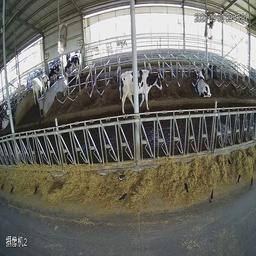cow: (137, 59, 174, 109), (192, 63, 213, 104), (30, 68, 51, 107), (64, 49, 84, 80)
